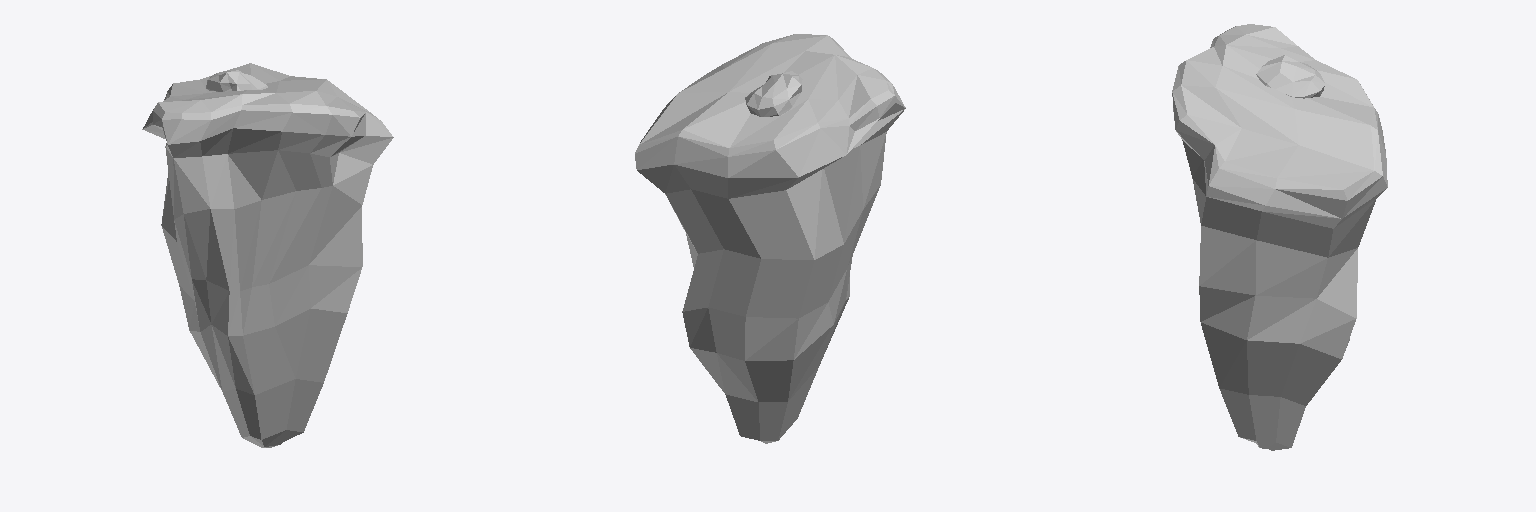
Rendered from platformEmptyStone.obj.
3 views of the same model, side by side, from view 1: azimuth 30°, elevation 25°; view 2: azimuth 150°, elevation 25°; view 3: azimuth 270°, elevation 25° (orthographic).
Parts seen in each view (by area): view 1: platformEmptyStone PlatfprmsAndSpikes; view 2: platformEmptyStone PlatfprmsAndSpikes; view 3: platformEmptyStone PlatfprmsAndSpikes.
Part boxes in pixels (x1,y1,x2,y2): platformEmptyStone PlatfprmsAndSpikes: (142, 63, 393, 447); platformEmptyStone PlatfprmsAndSpikes: (635, 34, 905, 443); platformEmptyStone PlatfprmsAndSpikes: (1172, 24, 1387, 450).
Bounding box in the file's own units: 8.8 × 14.23 × 7.26.